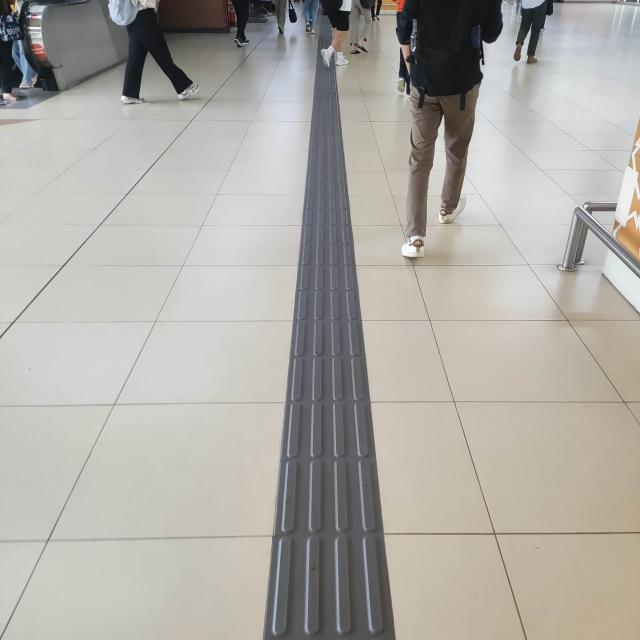lurus: (272, 85, 382, 640)
